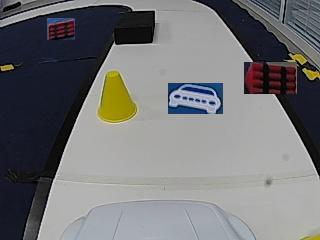block: (115, 10, 155, 45)
cone: (97, 71, 137, 122)
